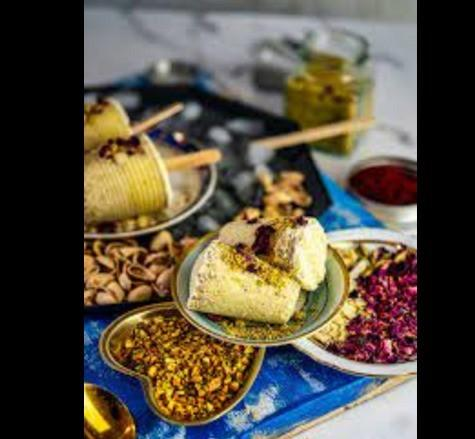Kulfi: (192, 240, 303, 327), (216, 218, 328, 291)
